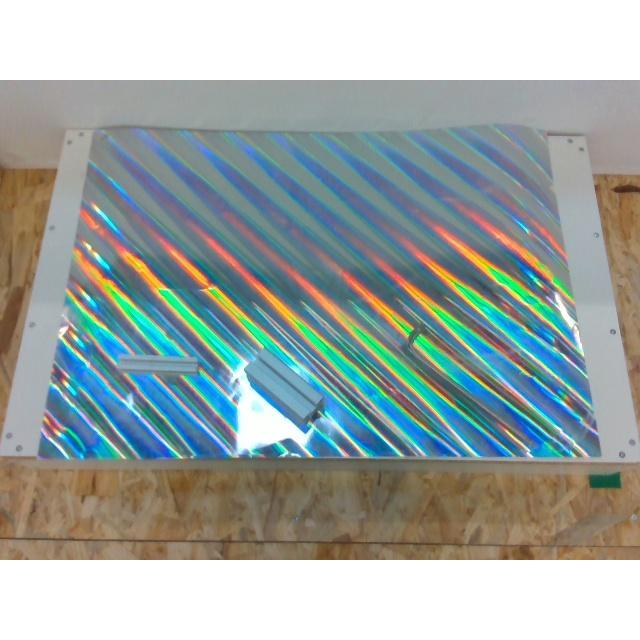AllenKey: (399, 323, 533, 452)
F20_20_G: (116, 354, 198, 372)
S40_40_G: (244, 348, 324, 419)
